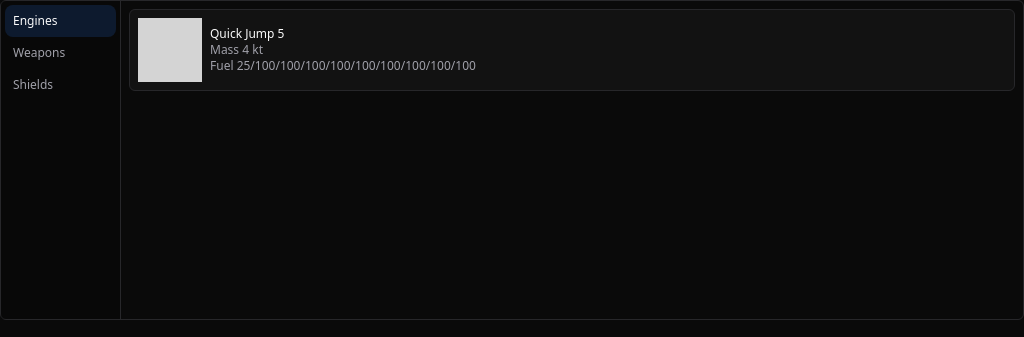
Scenario: ComponentPalette › switches the component list when a type tab is selected
Click the tab "Weapons".
click(60, 53)  # box [5,37,116,69]
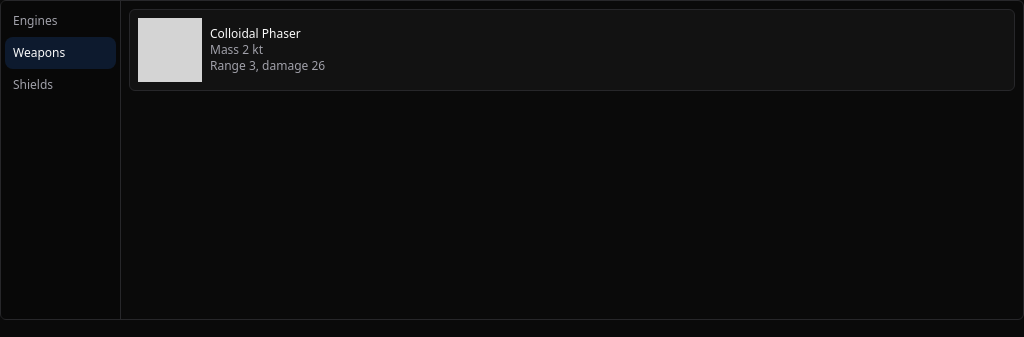
Expected: the button "Colloidal Phaser Mass 2 kt Range 3, damage 26" is shown, [129,9,1015,91]
Expected: the button "Quick Jump 5" is gone
